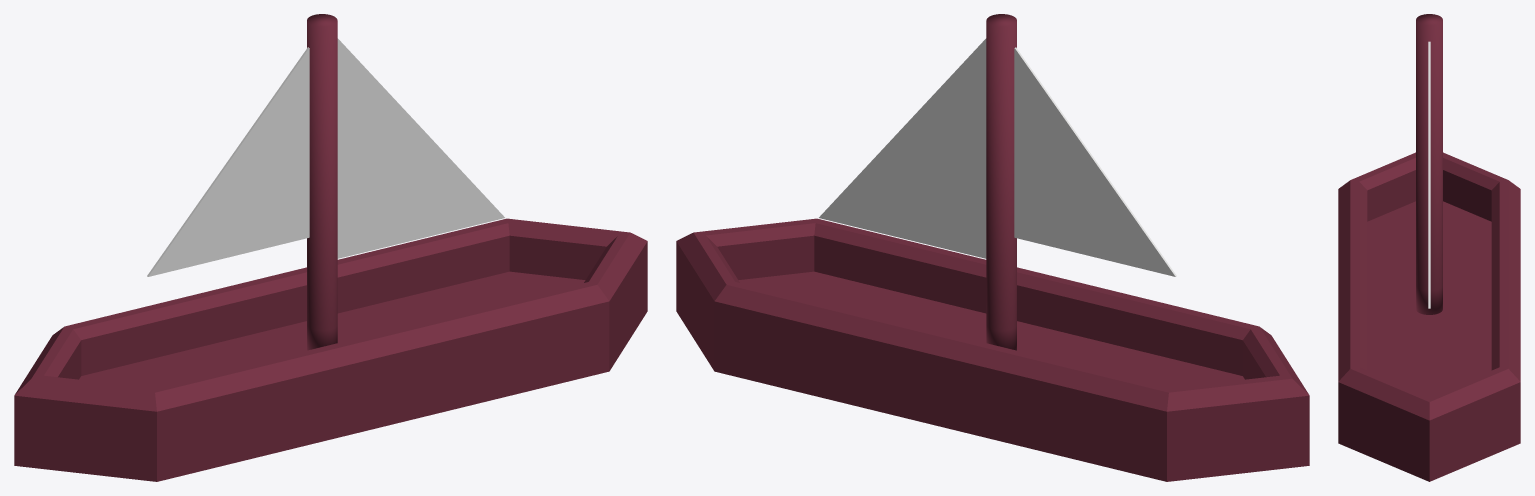
The model's file is ship.glb.
3 views of the same model, side by side, from view 1: azimuth 30°, elevation 25°; view 2: azimuth 150°, elevation 25°; view 3: azimuth 270°, elevation 25° (orthographic). The views are drawn at different scales.
Parts seen in each view (by area): view 1: ship, sail; view 2: ship, sail; view 3: ship, sail.
Boxes of the visible parts, x1,y1,x2,y2 form: ship: (14, 14, 647, 481); sail: (147, 38, 504, 276); ship: (676, 14, 1309, 481); sail: (819, 38, 1176, 276); ship: (1338, 14, 1520, 481); sail: (1428, 41, 1430, 308).
Size of the model in its own units: 7 by 3.91 by 2.
